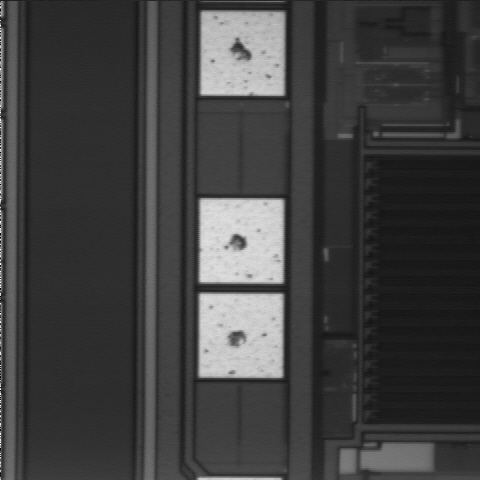pad: (200, 199, 283, 283), (200, 294, 282, 378), (201, 12, 283, 95)
